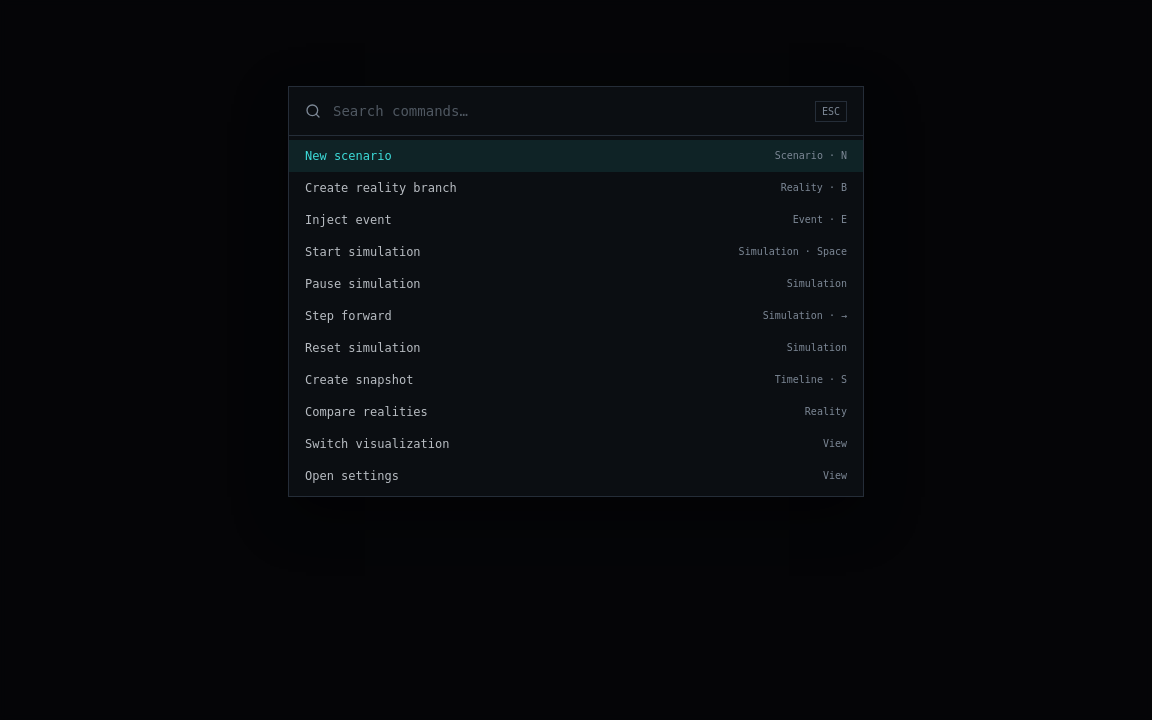
it: CommandPalette › filters commands by label and group
Type "Open settings" into the field labelled "Search commands". click: [568, 111]
box: [333,87,803,135]
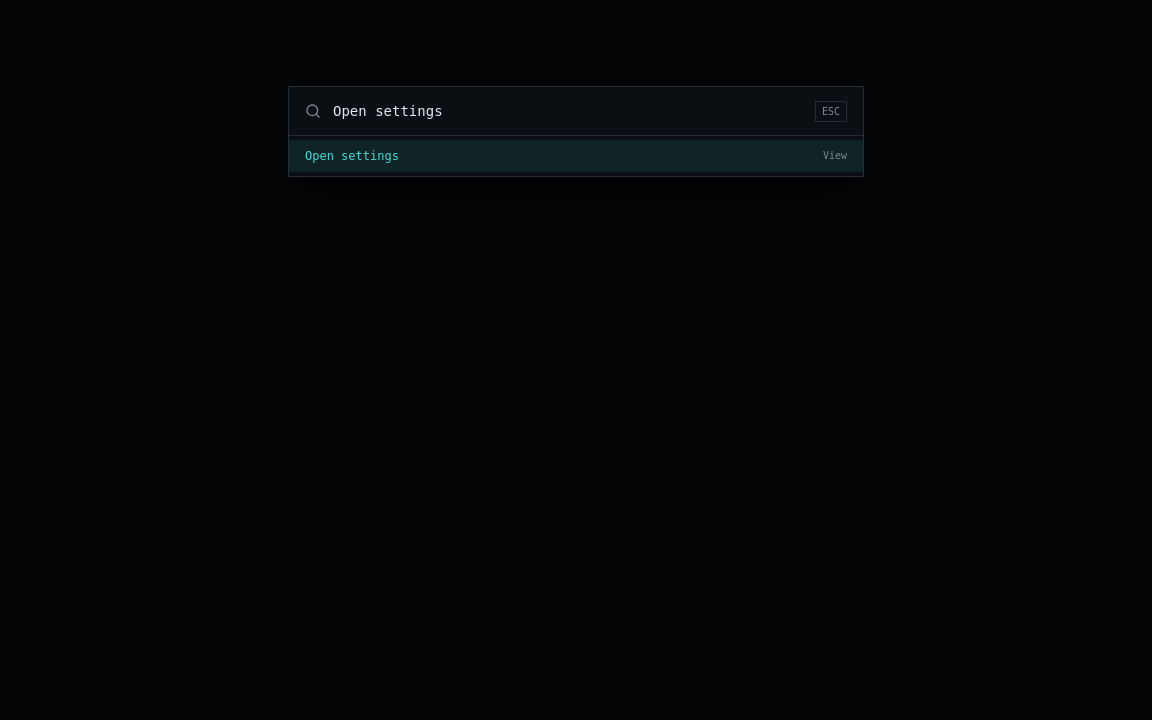
Check: the button "Open settings View" is shown, box [289,140,863,172]
Check: the button "New scenario" is gone
